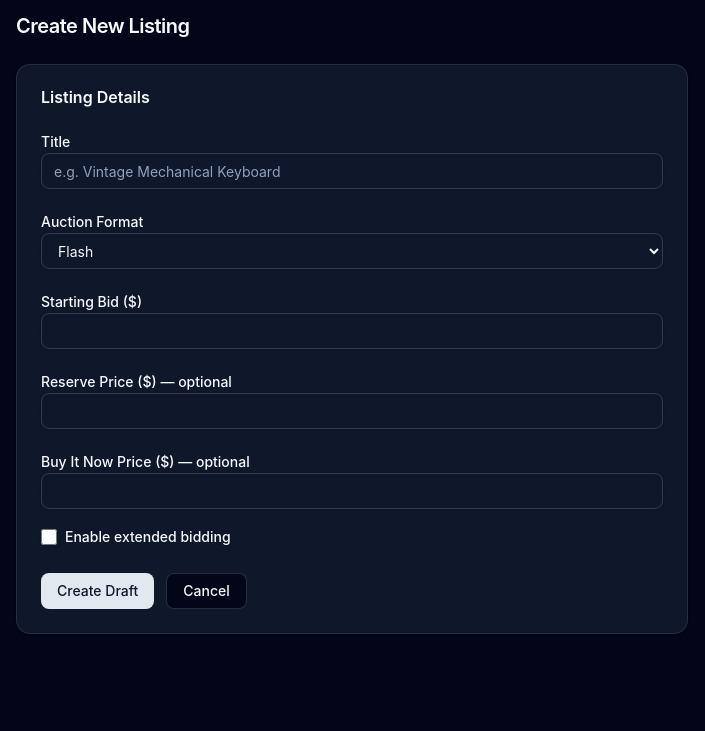
Scenario: CreateListingPage › hides duration field when Flash format is selected
The image size is (705, 731).
Expected: the field labelled "Title" is shown, [41,153,663,189]
Select "Timed" in the dropdown labelled "Auction Format" at (352, 251), box [41,233,663,269]
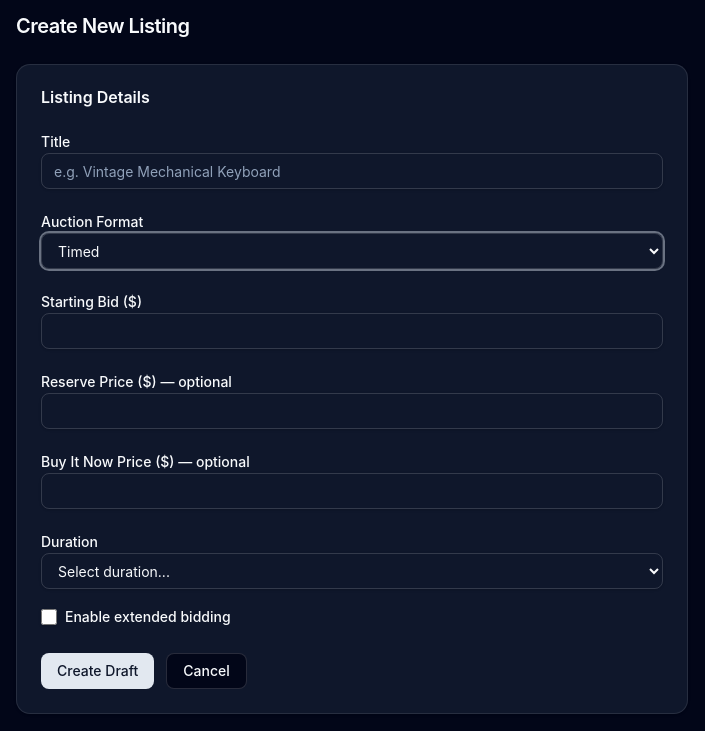
Now the dropdown labelled "Duration" is shown, box [41,553,663,589]
Select "Flash" in the dropdown labelled "Auction Format" at (352, 251), box [41,233,663,269]
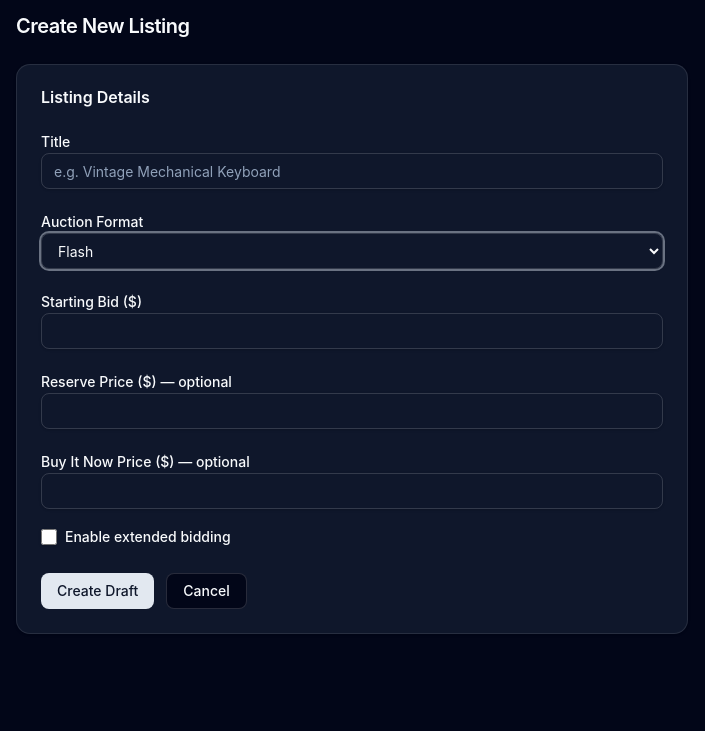
Now the label labelled "Duration" is gone
